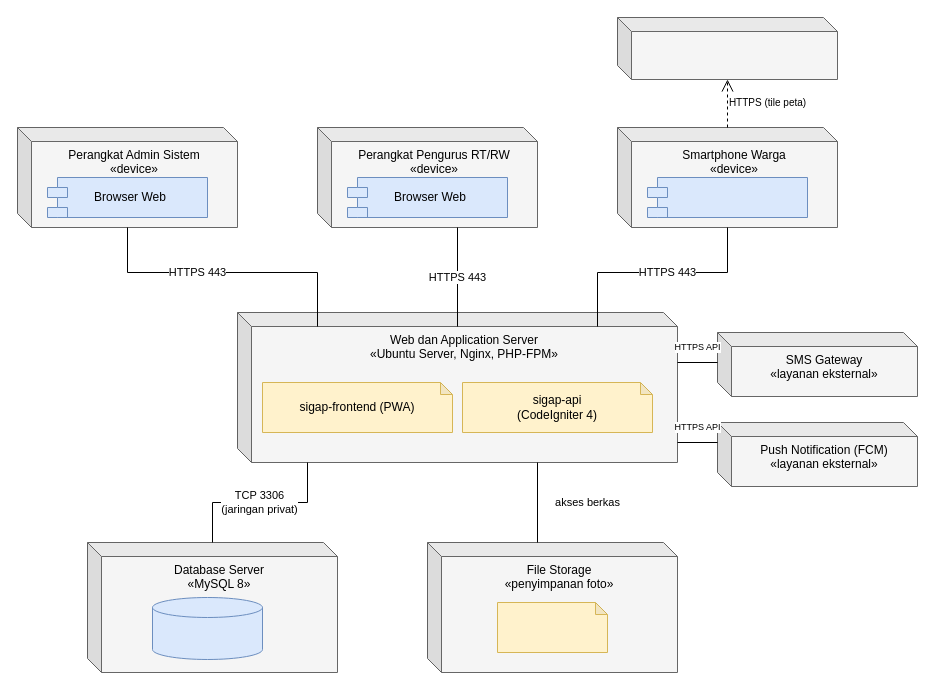
This 935x690 diagram has some shape labels left out. The centre of each missing label's shape, as x and y in pixels:
Browser Mobile / PWA: the point at 727,197
foto-laporan/: the point at 552,627
Layanan Peta «OpenStreetMap»: the point at 727,48
sigap_db: the point at 207,628
